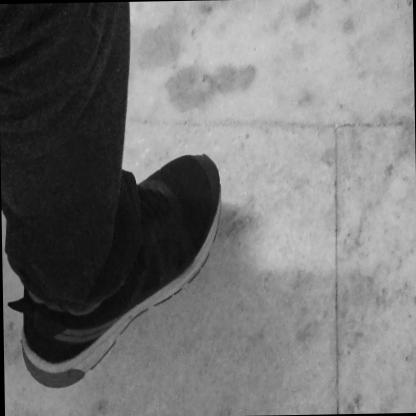ankle: (89, 311, 95, 319)
heel: (30, 367, 35, 375)
pinky: (208, 214, 212, 220)
right_foot: (17, 155, 223, 389)
toe: (189, 159, 193, 164)
